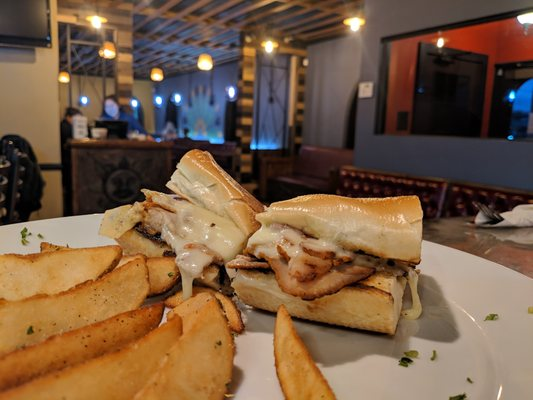soup: (228, 193, 426, 336)
